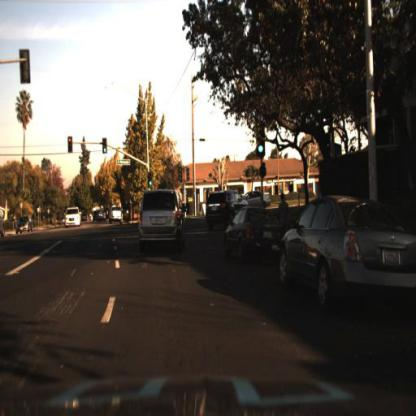car: (279, 194, 416, 310), (141, 181, 190, 258), (223, 207, 287, 262), (207, 188, 249, 228), (66, 206, 84, 228), (109, 203, 125, 227), (16, 215, 32, 237), (96, 206, 112, 227)
pedestrian: (277, 193, 288, 234)
trafficLight: (256, 124, 267, 160)
trafficLight-Green: (102, 136, 109, 157), (148, 169, 155, 190)
trafficLight-RedLeft: (67, 134, 73, 156)
